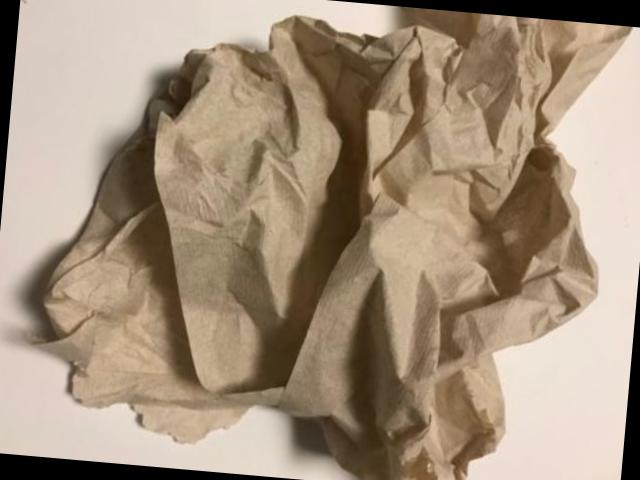cardboard paper: (46, 11, 630, 480)
